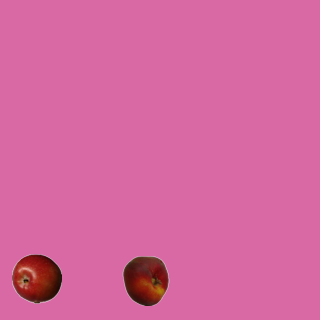Apple Braeburn: (11, 253, 61, 303)
Nectarine Flat: (120, 255, 170, 305)
